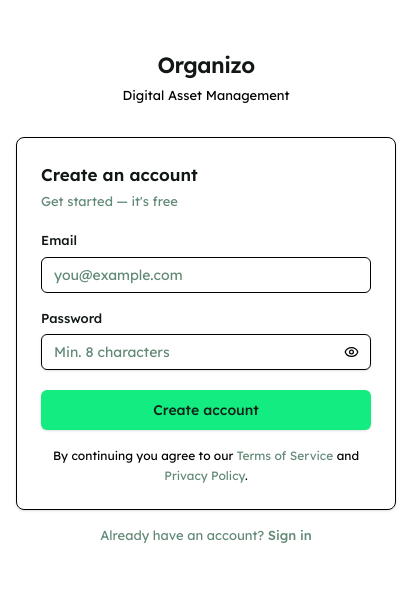
Scenario: SignUpPage › API integration › shows the API error message when registration fails
This screenshot has width=413, height=599.
In the field labelled "Email": (206, 274) [41,256,371,292], type "taken@example.com"
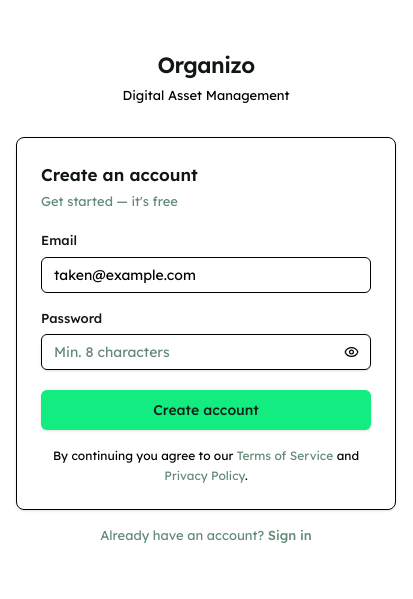
In the password field labelled "Password": (206, 352) [41,334,371,370], type "Password1!"
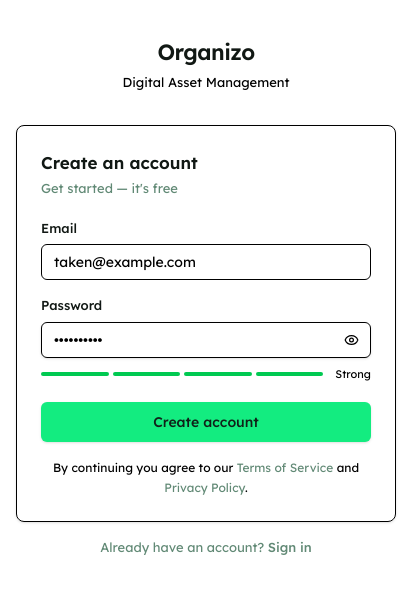
Click the button "Create account": (206, 422) [41,402,371,442]
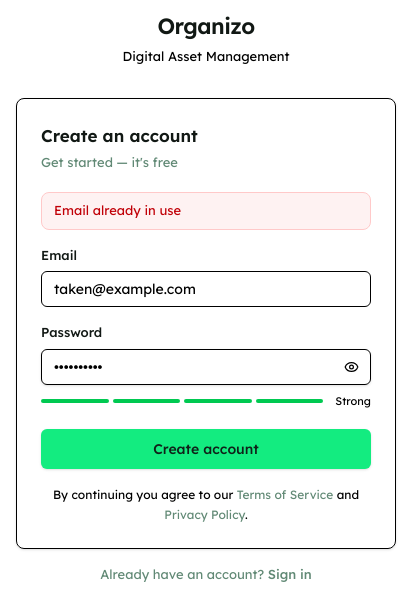
Result: the text "Email already in use" is shown at [41,192,371,230]
